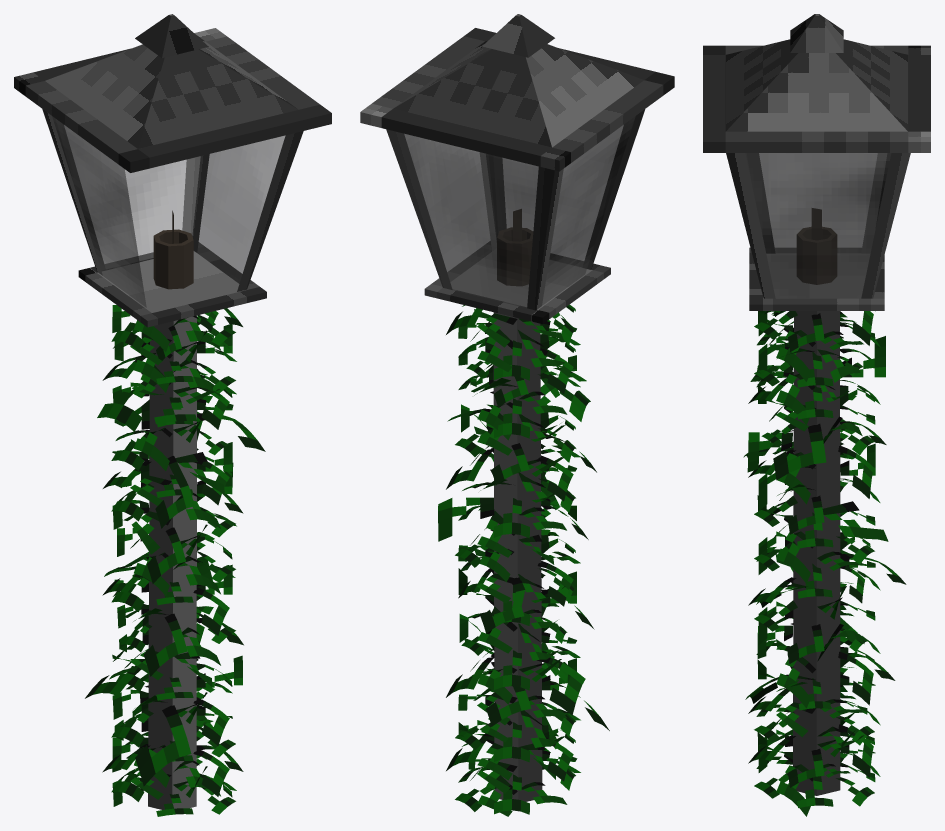
The model's file is lamp_post_889x02.gltf.
3 views of the same model, side by side, from view 1: azimuth 30°, elevation 25°; view 2: azimuth 150°, elevation 25°; view 3: azimuth 270°, elevation 25° (orthographic). The views are drawn at different scales.
Visible parts, largest first — view 1: lamp_post_889x02, leaves; view 2: lamp_post_889x02, leaves; view 3: lamp_post_889x02, leaves.
Boxes of the visible parts, x1,y1,x2,y2 form: lamp_post_889x02: (14,14,331,809); leaves: (85,305,265,816); lamp_post_889x02: (360,14,674,801); leaves: (438,304,609,816); lamp_post_889x02: (703,14,930,795); leaves: (743,311,906,816).
Bounding box in the file's own units: 2 × 7.51 × 2.
2 materials, 2 textured.
